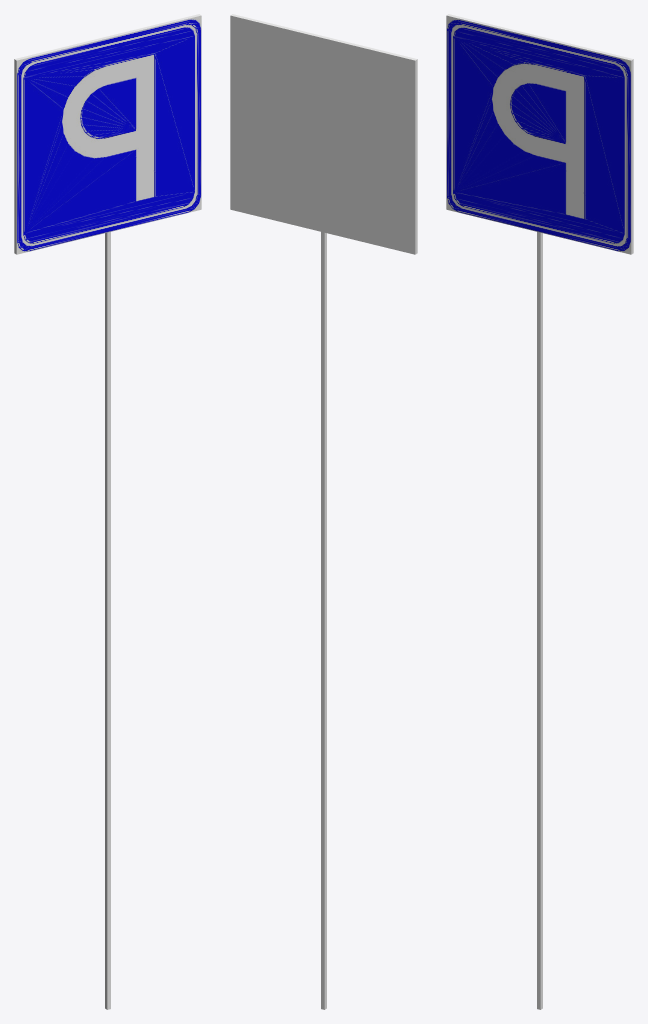
Rendered from trafik_levha_park.obj.
The picture shows the model from 3 angles, left to right: view 1: azimuth 30°, elevation 25°; view 2: azimuth 150°, elevation 25°; view 3: azimuth 330°, elevation 25°; orthographic projection.
Visible parts, largest first — view 1: Mesh2 Group3 Group1 Model, Mesh1 Group2 Group1 Model; view 2: Mesh2 Group3 Group1 Model, Mesh1 Group2 Group1 Model; view 3: Mesh2 Group3 Group1 Model, Mesh1 Group2 Group1 Model.
Part boxes in pixels (bbox=[...]): Mesh2 Group3 Group1 Model: bbox=[14, 14, 201, 254]; Mesh1 Group2 Group1 Model: bbox=[105, 232, 110, 1009]; Mesh2 Group3 Group1 Model: bbox=[230, 14, 417, 254]; Mesh1 Group2 Group1 Model: bbox=[321, 232, 326, 1009]; Mesh2 Group3 Group1 Model: bbox=[446, 14, 633, 254]; Mesh1 Group2 Group1 Model: bbox=[537, 232, 542, 1009].
Bounding box in the file's own units: 498 × 2500 × 10.
Materials: 3 (1 with a texture image).
